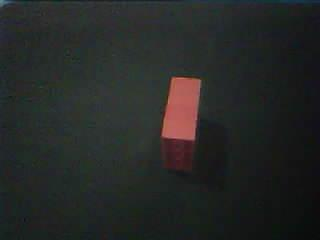lego: (158, 74, 203, 170)
